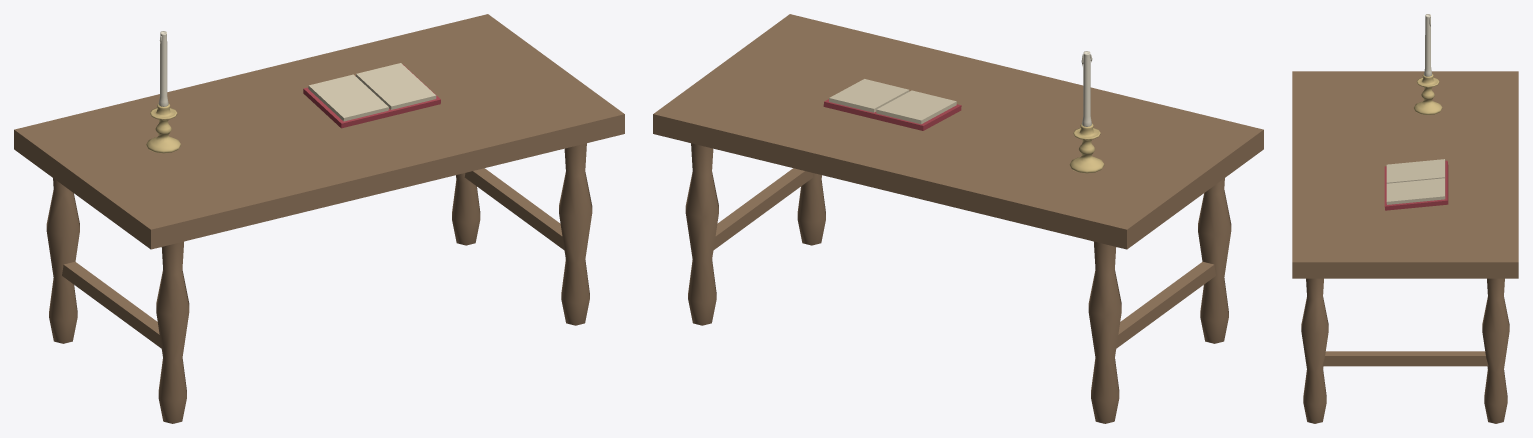
Rendered from ReadingTable.fbx.
The picture shows the model from 3 angles, left to right: view 1: azimuth 30°, elevation 25°; view 2: azimuth 150°, elevation 25°; view 3: azimuth 270°, elevation 25°; orthographic projection. The views are drawn at different scales.
Parts seen in each view (by area): view 1: ReadingTable; view 2: ReadingTable; view 3: ReadingTable.
Part boxes in pixels (<box>): ReadingTable: <box>14,14,624,423</box>; ReadingTable: <box>653,14,1263,423</box>; ReadingTable: <box>1292,14,1518,423</box>.
Bounding box in the file's own units: 2 × 1.3 × 1.
